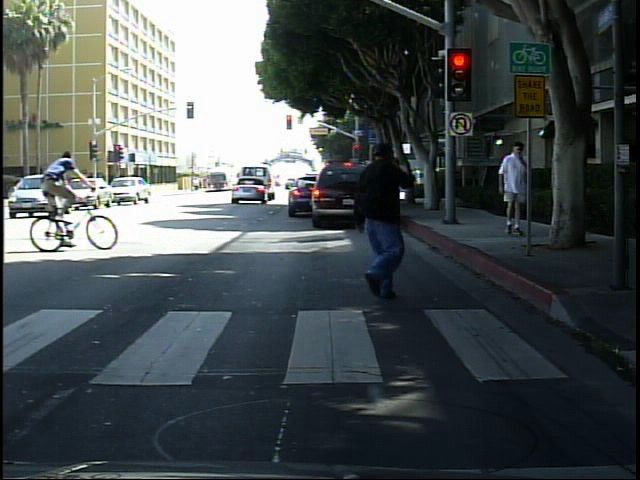person: (338, 131, 420, 311), (29, 138, 91, 243), (557, 138, 592, 245), (495, 140, 532, 238)
